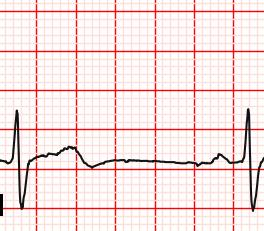LVH: (43, 145, 93, 170)
ST Depression: (2, 153, 39, 212)
